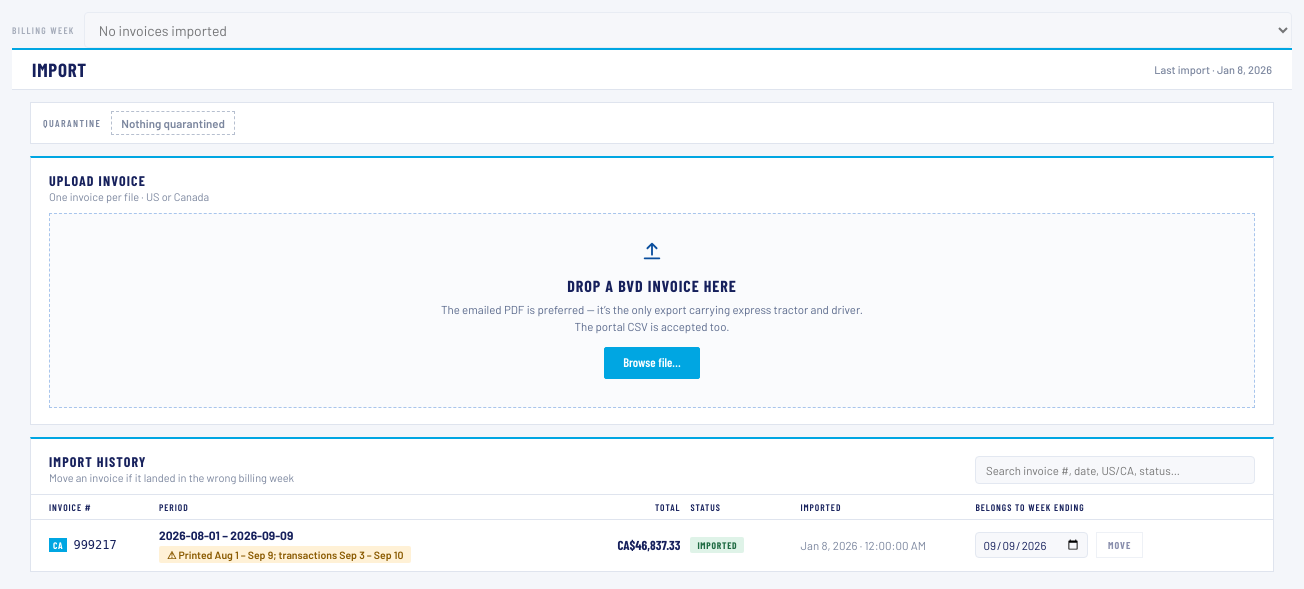
Scenario: ImportPage — billing weeks (T-64 step 64.4) › Move stays disabled until the week actually changes
The width and height of the screenshot is (1304, 589).
Expected: the element with test id "import-history-row-inv-ca" is shown, [31,520,1273,571]
Expected: the button "Move" is disabled, [1096,532,1143,558]
In the date field named "Belongs to week ending": [1032, 545] box [975,532,1088,558], type "2026-09-16"
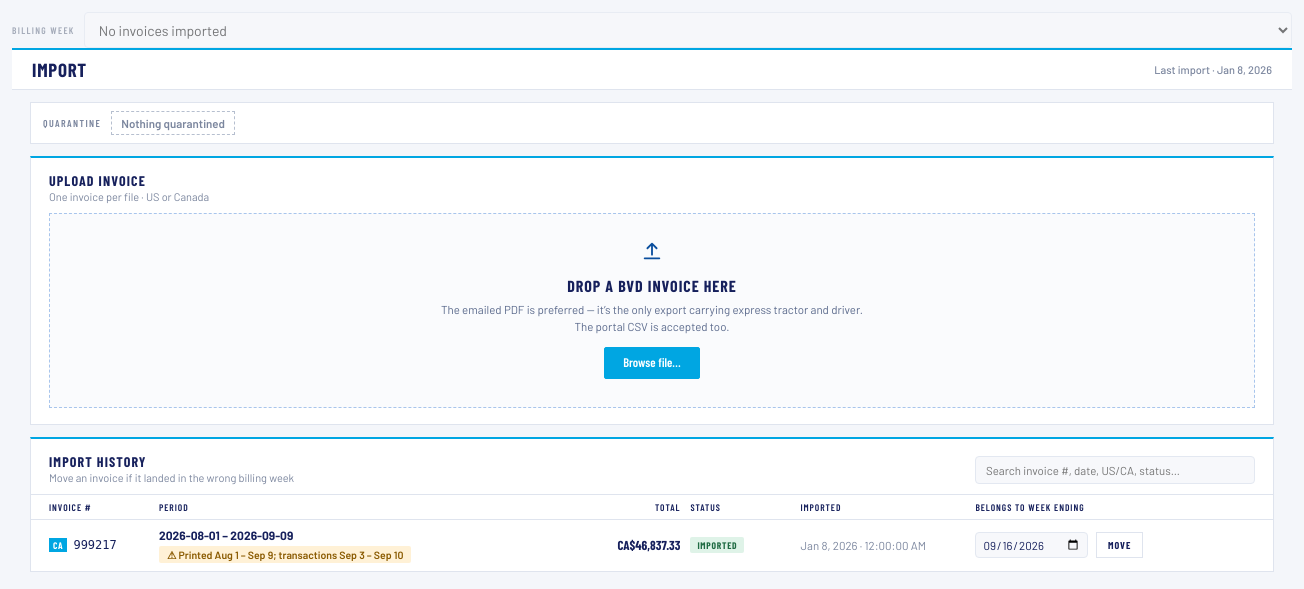
Expected: the button "Move" is enabled, [1096,532,1143,558]
